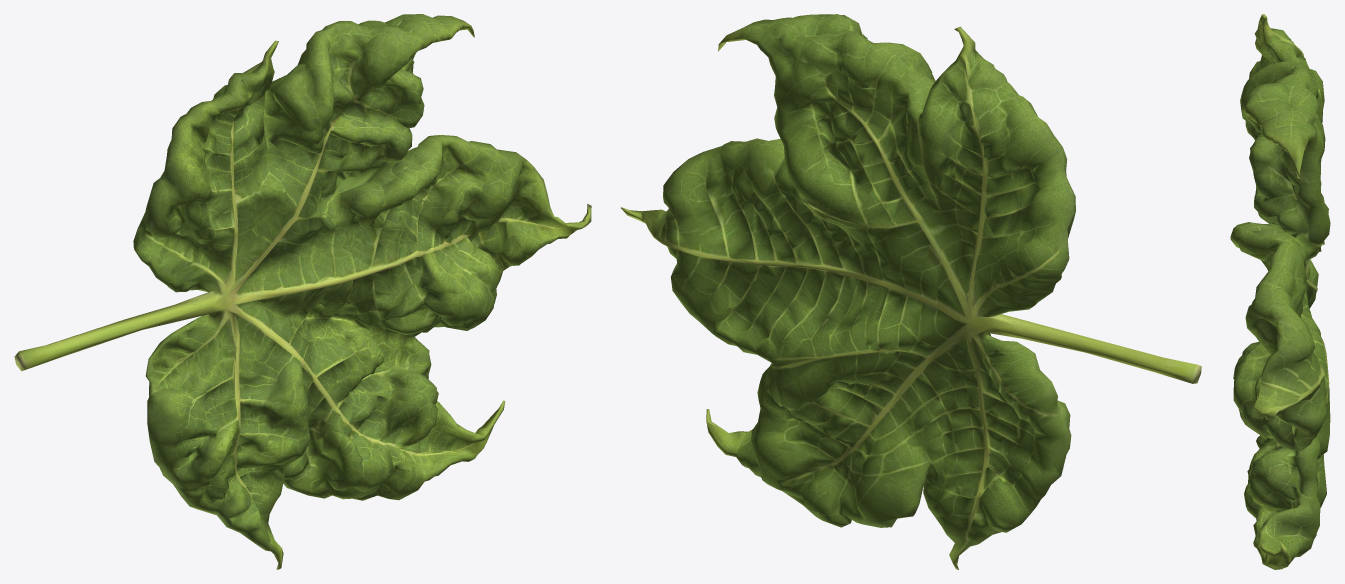
Rendered from cotton_leaf_curl_virus.glb.
3 views of the same model, side by side, from view 1: azimuth 30°, elevation 25°; view 2: azimuth 150°, elevation 25°; view 3: azimuth 270°, elevation 25° (orthographic). The views are drawn at different scales.
Visible parts, largest first — view 1: cotton_leaf_curl_virus; view 2: cotton_leaf_curl_virus; view 3: cotton_leaf_curl_virus.
Boxes of the visible parts, x1=… form: cotton_leaf_curl_virus: x1=14, y1=14, x2=591, y2=569; cotton_leaf_curl_virus: x1=621, y1=14, x2=1201, y2=569; cotton_leaf_curl_virus: x1=1230, y1=14, x2=1330, y2=569.
Size of the model in its own units: 1.12 by 0.9995 by 0.1754.
Materials: 1 (1 with a texture image).
